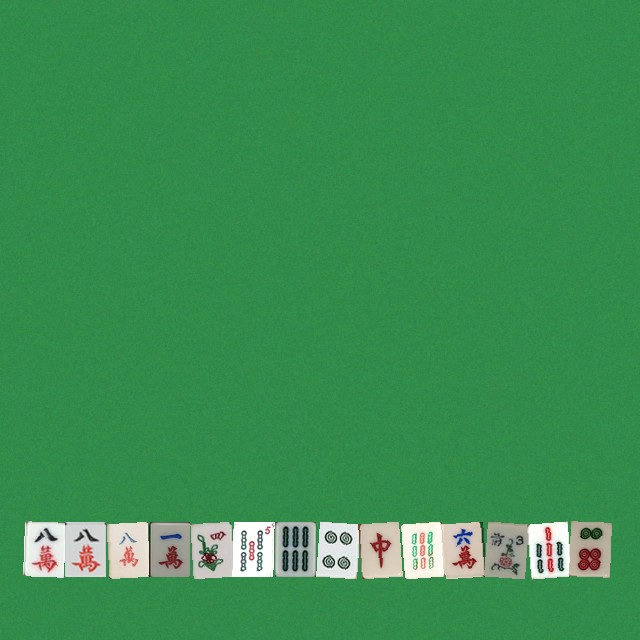tile: (22, 521, 63, 576), (64, 521, 105, 576), (106, 521, 147, 576), (148, 521, 189, 576), (190, 521, 231, 576), (232, 521, 273, 576), (274, 521, 315, 576), (316, 521, 357, 576), (358, 521, 399, 576), (400, 521, 441, 576), (442, 521, 483, 576), (484, 521, 525, 576), (526, 521, 567, 576), (568, 521, 609, 576)
